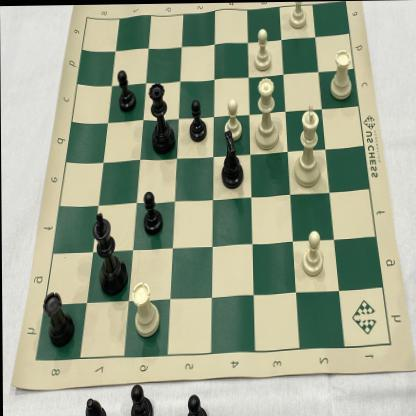black-king: (90, 206, 129, 300)
black-knight: (216, 130, 249, 193)
black-pawn: (141, 186, 163, 238), (188, 96, 210, 145), (116, 66, 137, 113)
black-queen: (147, 79, 178, 156)
black-rook: (44, 288, 76, 349)
white-king: (291, 99, 323, 190)
white-pawn: (299, 225, 328, 281), (222, 95, 247, 144), (252, 25, 275, 72), (289, 1, 310, 33)
white-queen: (252, 73, 281, 155)
white-rook: (129, 275, 162, 343), (328, 47, 356, 104)
